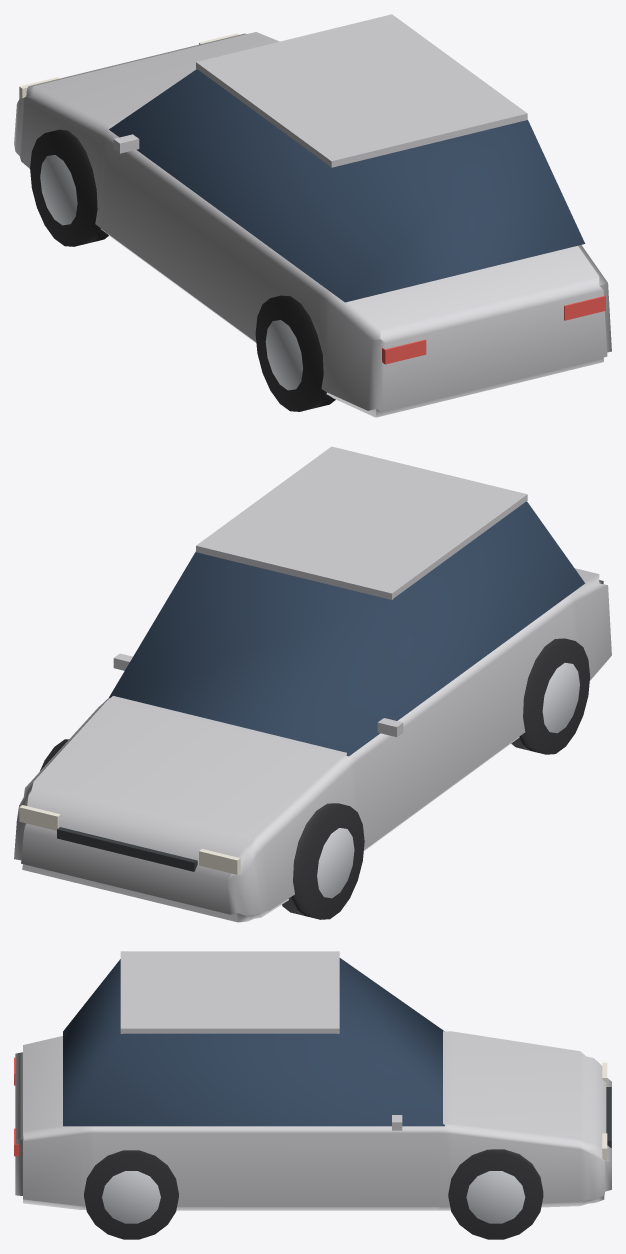
Rendered from car_suv.glb.
The picture shows the model from 3 angles, top to bottom: view 1: azimuth 30°, elevation 25°; view 2: azimuth 150°, elevation 25°; view 3: azimuth 270°, elevation 25°; orthographic projection. The views are drawn at different scales.
Visible parts, largest first — view 1: LowerBody, CabinGlass, Cube, Cylinder.002, Cylinder, Cylinder.001, Cylinder.003, Cube.004, Cube.007; view 2: LowerBody, CabinGlass, Cube, Cylinder.002, Cylinder, Cylinder.001, Cylinder.003, Cube.001, Cube.003, Cube.006; view 3: LowerBody, CabinGlass, Cube, Cylinder.006, Cylinder.004, Cylinder.005, Cylinder.007.
Boxes of the visible parts, x1,y1,x2,y2 form: LowerBody: [14, 32, 611, 417]; CabinGlass: [109, 69, 585, 302]; Cube: [196, 14, 527, 167]; Cylinder.002: [30, 129, 108, 246]; Cylinder: [255, 295, 335, 411]; Cylinder.001: [265, 320, 302, 390]; Cylinder.003: [40, 155, 77, 225]; Cube.004: [382, 339, 426, 364]; Cube.007: [564, 295, 605, 320]; LowerBody: [14, 568, 611, 922]; CabinGlass: [109, 501, 585, 756]; Cube: [196, 446, 527, 599]; Cylinder.002: [282, 803, 364, 919]; Cylinder: [511, 638, 590, 754]; Cylinder.001: [542, 663, 579, 733]; Cylinder.003: [317, 828, 354, 898]; Cube.001: [57, 827, 197, 871]; Cube.003: [199, 849, 240, 874]; Cube.006: [19, 805, 60, 830]; LowerBody: [15, 1031, 611, 1210]; CabinGlass: [63, 958, 444, 1126]; Cube: [120, 951, 339, 1033]; Cylinder.006: [448, 1149, 543, 1239]; Cylinder.004: [84, 1150, 178, 1239]; Cylinder.005: [102, 1171, 160, 1223]; Cylinder.007: [466, 1171, 525, 1223].
Bounding box in the file's own units: 2.06 × 1.68 × 4.66.
